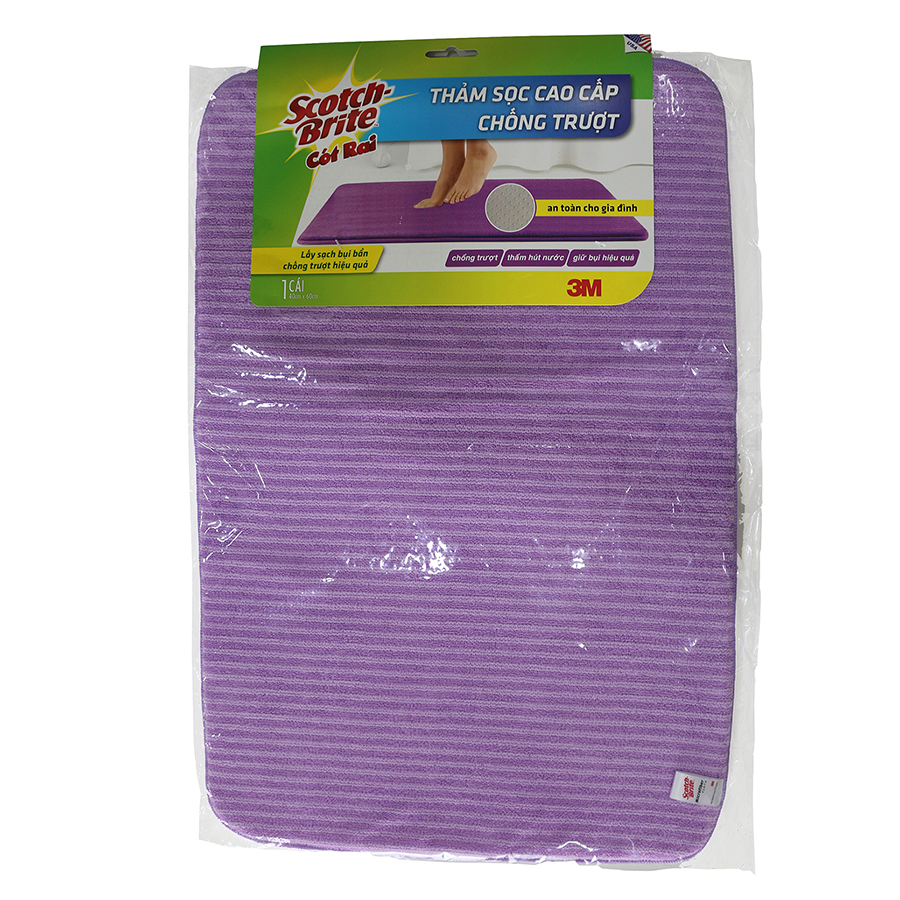3M: (557, 274, 612, 302)
